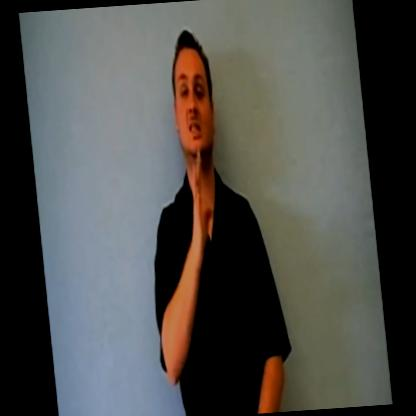Talk: (147, 15, 263, 302)
